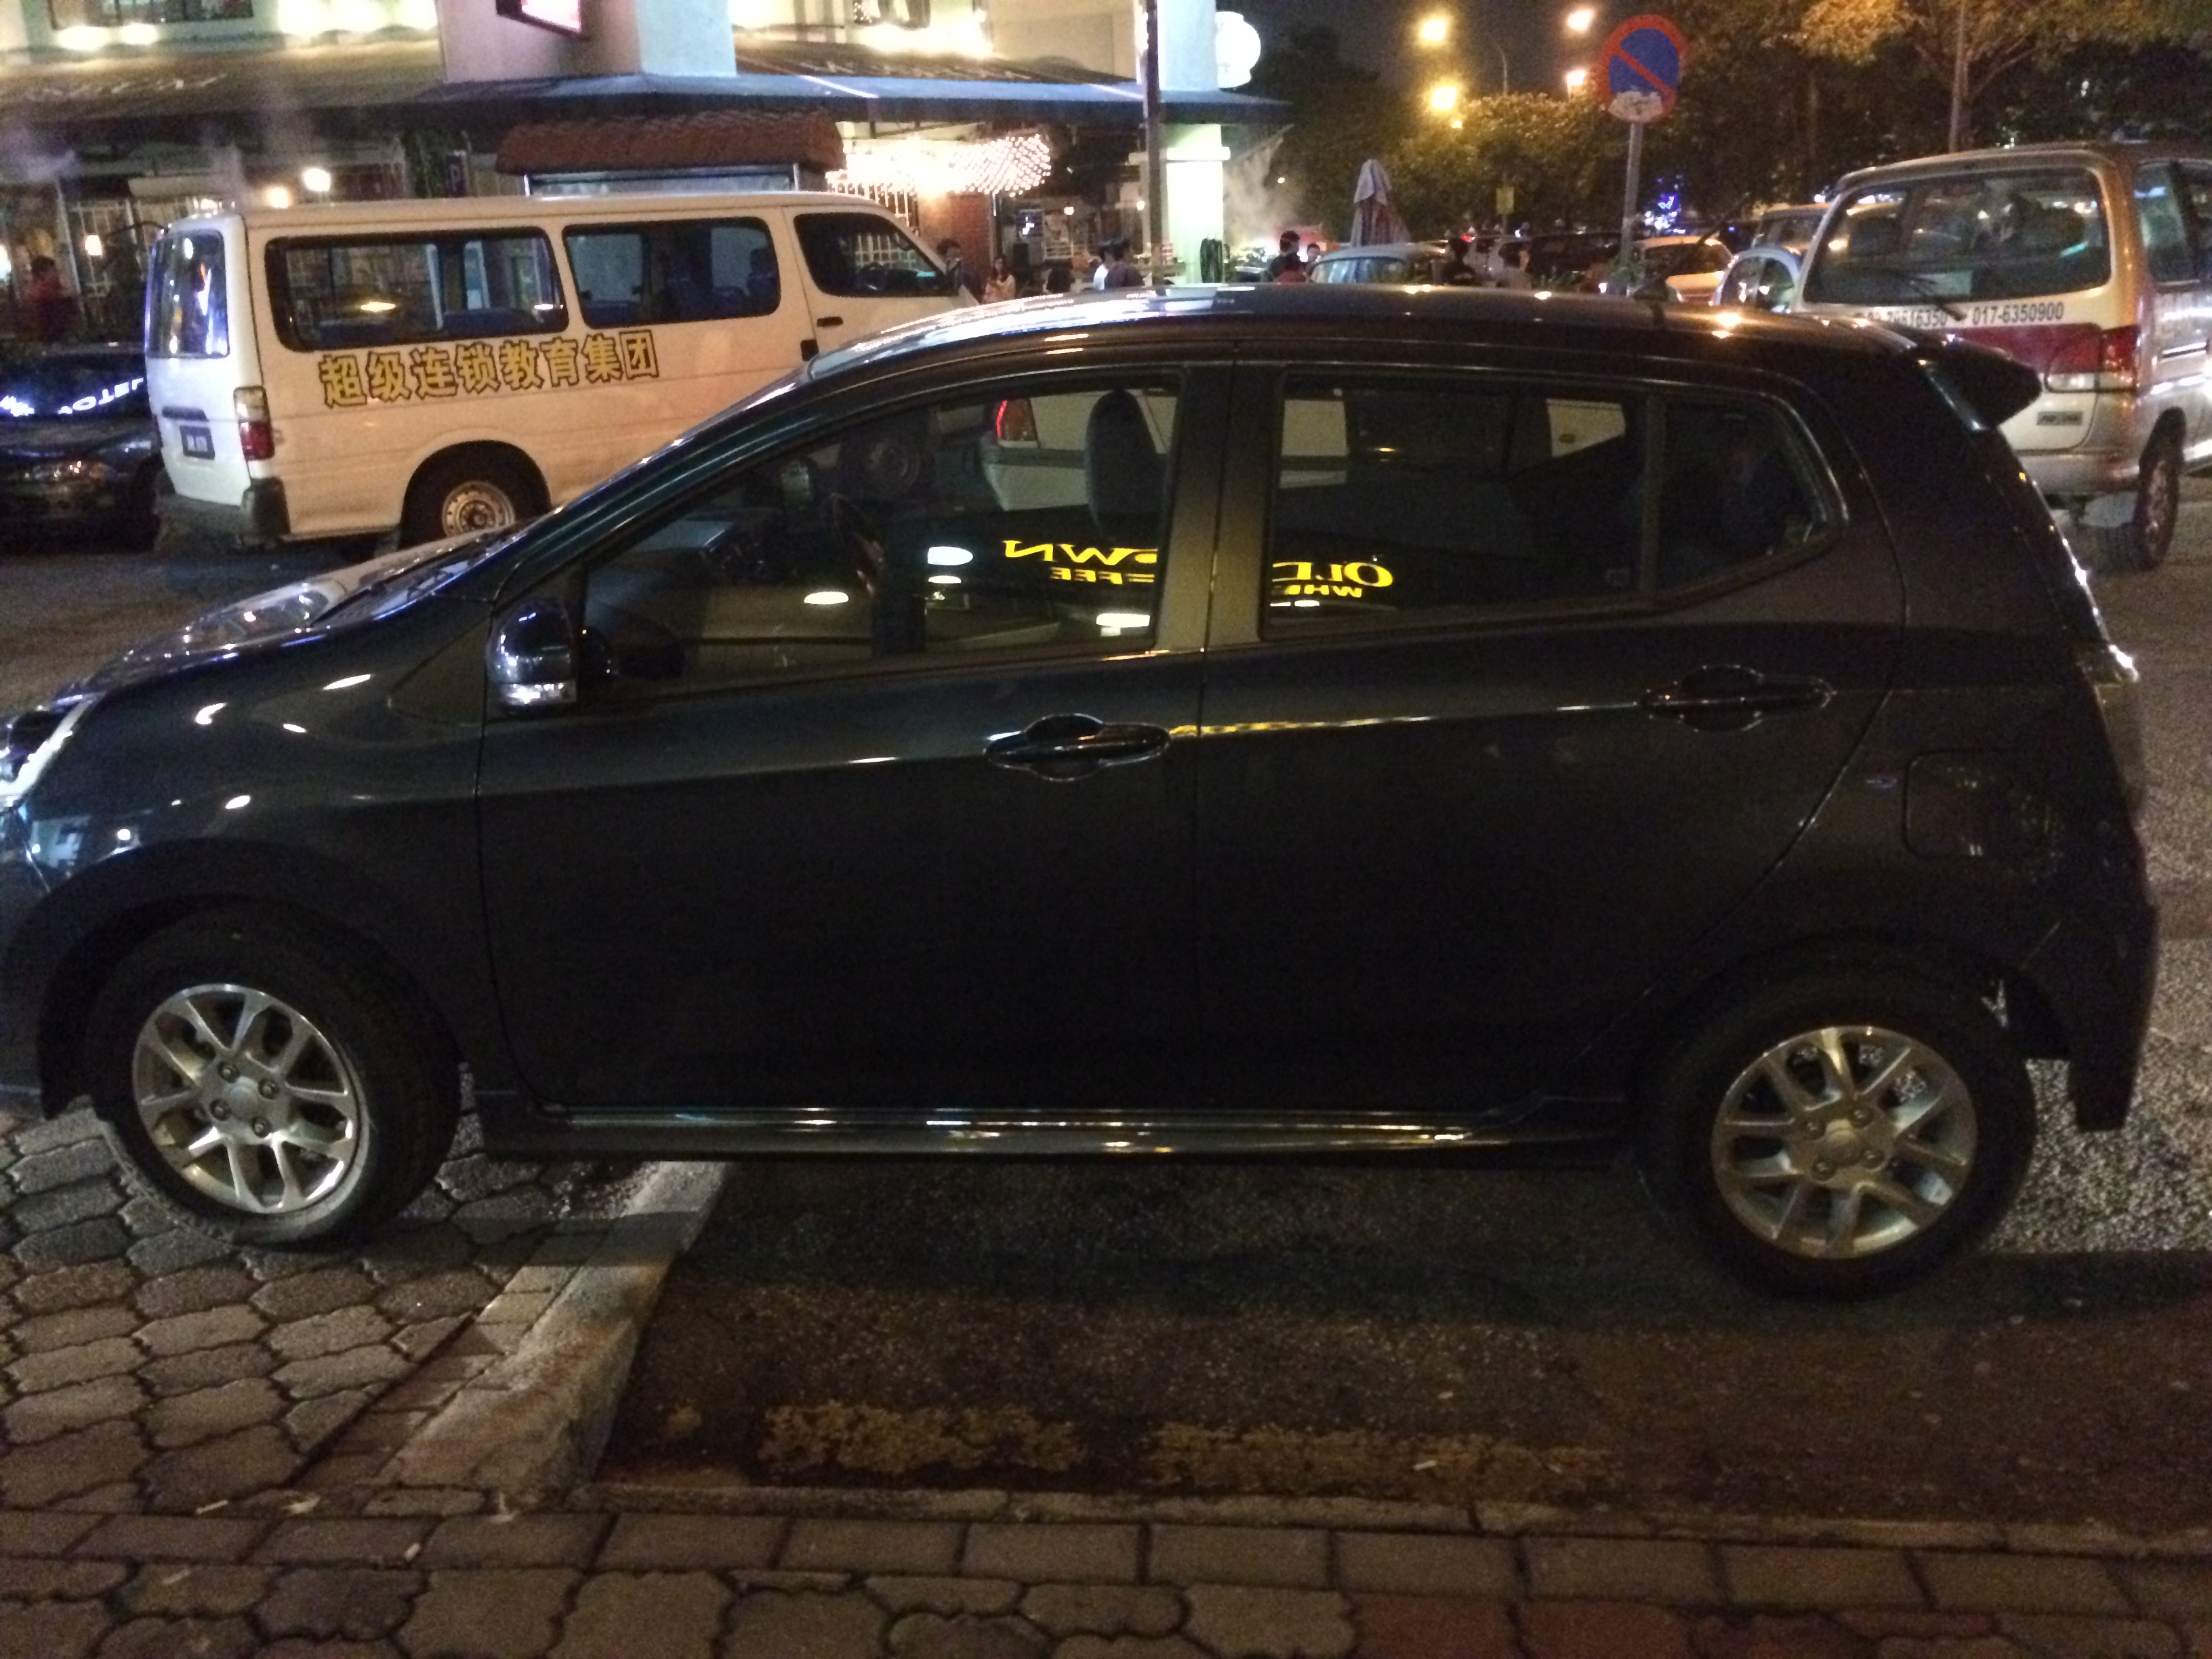car: (24, 265, 2179, 1340)
